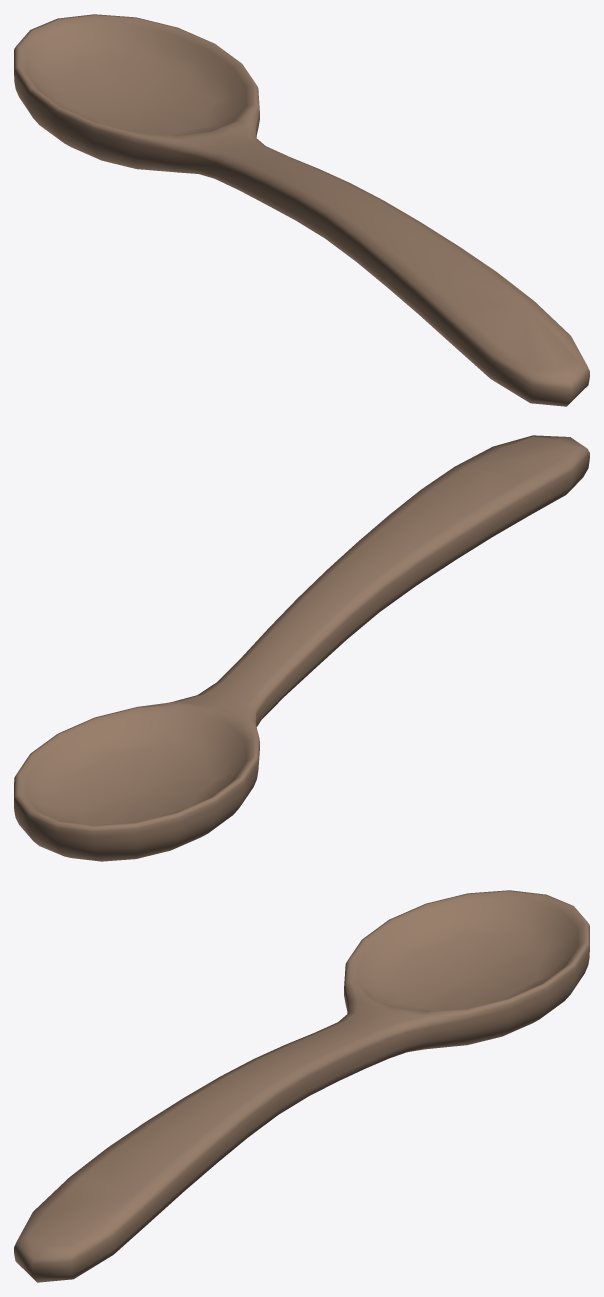
Rendered from Cuchara.fbx.
3 renders of one model, top to bottom at view 1: azimuth 30°, elevation 25°; view 2: azimuth 150°, elevation 25°; view 3: azimuth 330°, elevation 25°, orthographic.
Visible parts, largest first — view 1: Circle.002; view 2: Circle.002; view 3: Circle.002.
Boxes of the visible parts, <box> form: Circle.002: <box>14,14,589,406</box>; Circle.002: <box>14,435,589,861</box>; Circle.002: <box>14,890,589,1282</box>.
Bounding box in the file's own units: 142 × 66.62 × 677.
